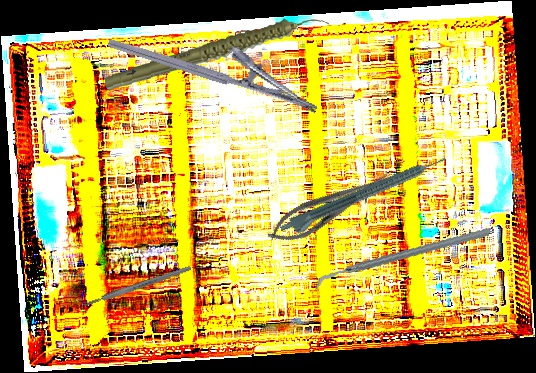Chopper: (314, 204, 491, 314)
Handpiece: (102, 15, 332, 92), (278, 152, 451, 242)
Needle Holder: (106, 8, 328, 116), (261, 163, 396, 253)
Scalpel Handle: (82, 264, 193, 309)
